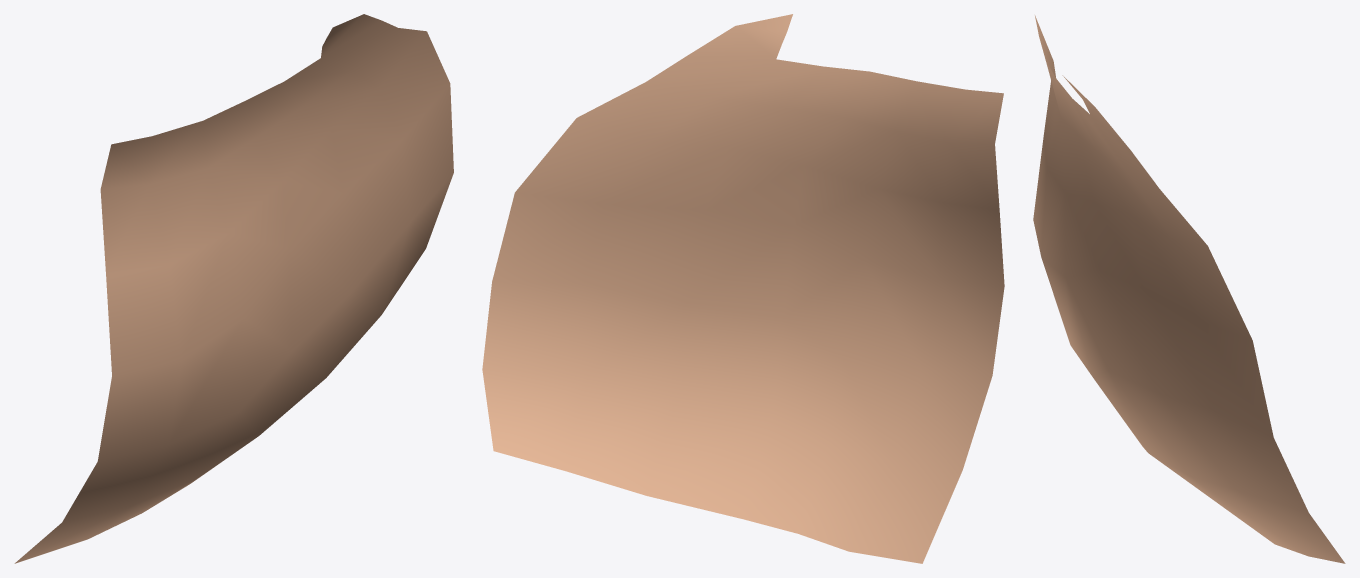
The model's file is mental-region-l.glb.
3 views of the same model, side by side, from view 1: azimuth 30°, elevation 25°; view 2: azimuth 150°, elevation 25°; view 3: azimuth 270°, elevation 25° (orthographic). The views are drawn at different scales.
Parts seen in each view (by area): view 1: Mental region.l; view 2: Mental region.l; view 3: Mental region.l.
Part boxes in pixels (bbox=[...]): Mental region.l: bbox=[14, 14, 453, 563]; Mental region.l: bbox=[482, 14, 1004, 563]; Mental region.l: bbox=[1033, 15, 1345, 563].
Bounding box in the file's own units: 0.0251 × 0.0271 × 0.016.
